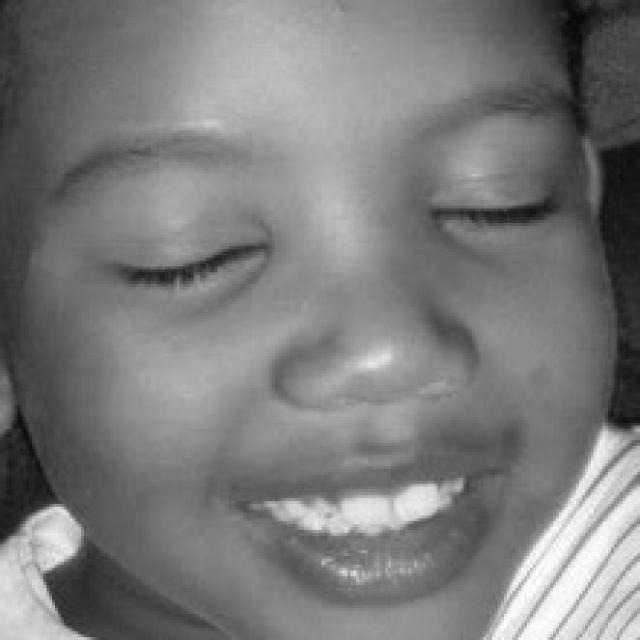real: (10, 3, 578, 587), (108, 174, 586, 302)
